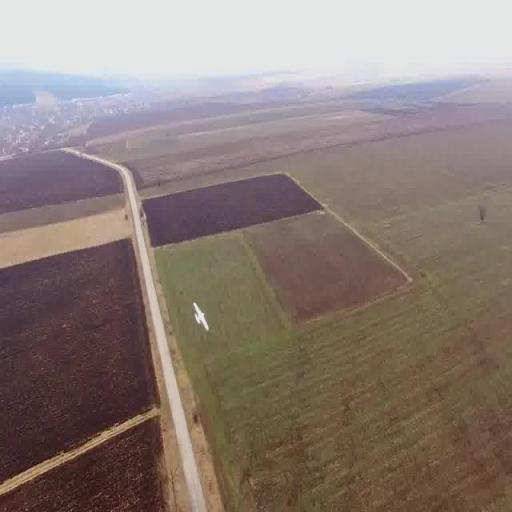uav: (185, 285, 216, 338)
